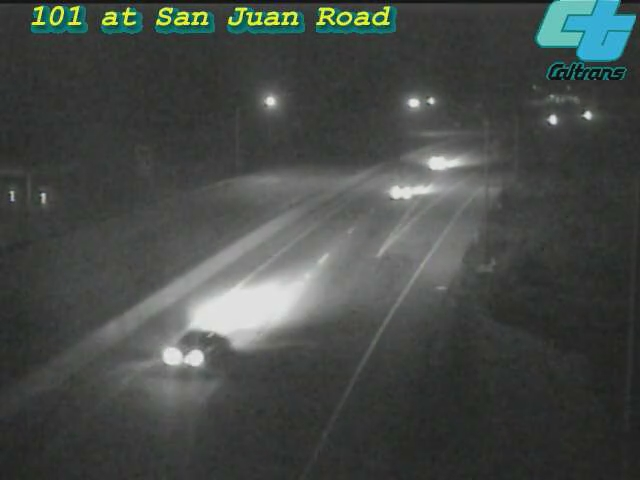vehicle: (143, 292, 253, 402), (397, 123, 477, 203), (364, 152, 444, 232), (527, 94, 577, 144), (563, 91, 613, 141)
